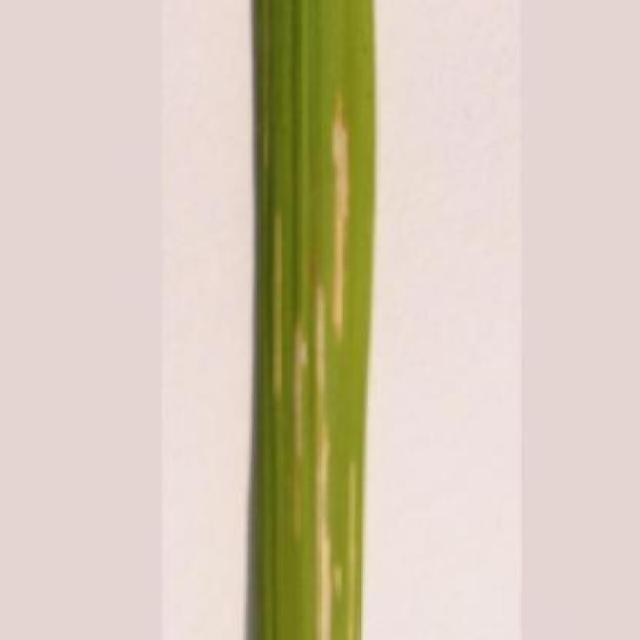Brown_Spot: (248, 0, 386, 640)
